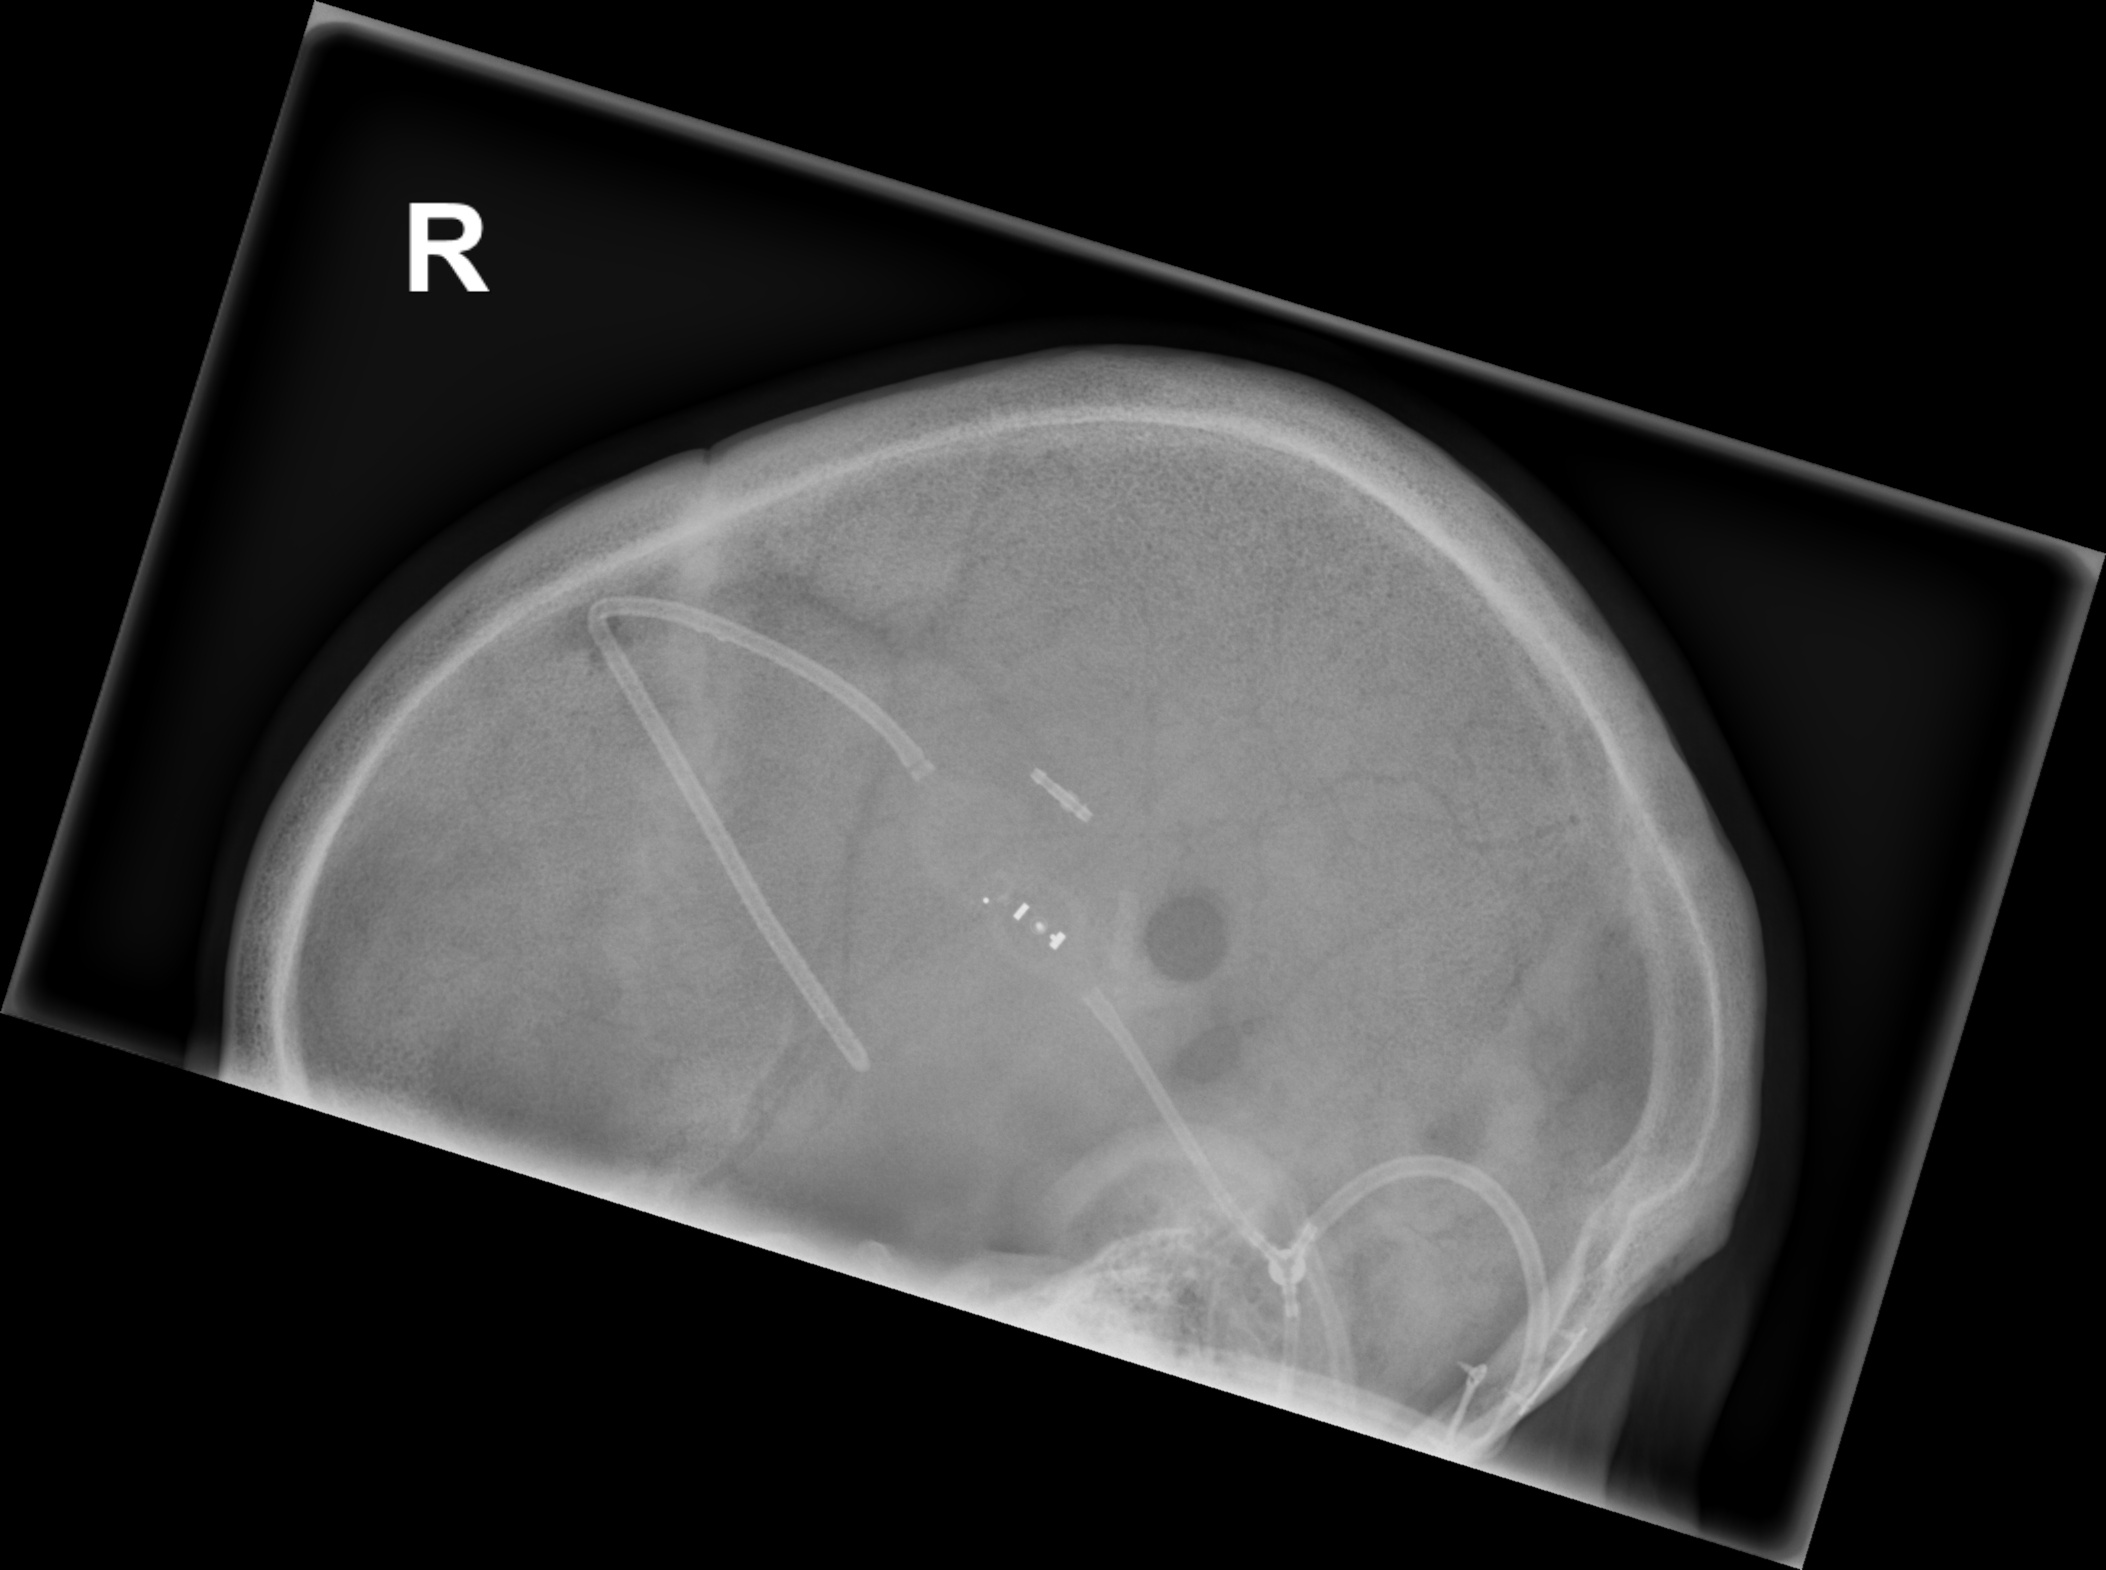Codman Certas: (970, 876, 1084, 966)
